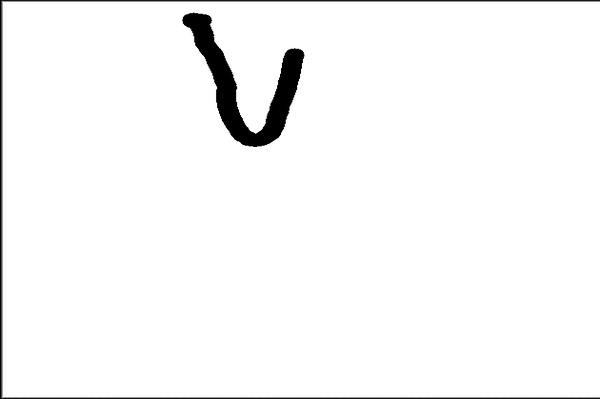V: (173, 5, 304, 152)
